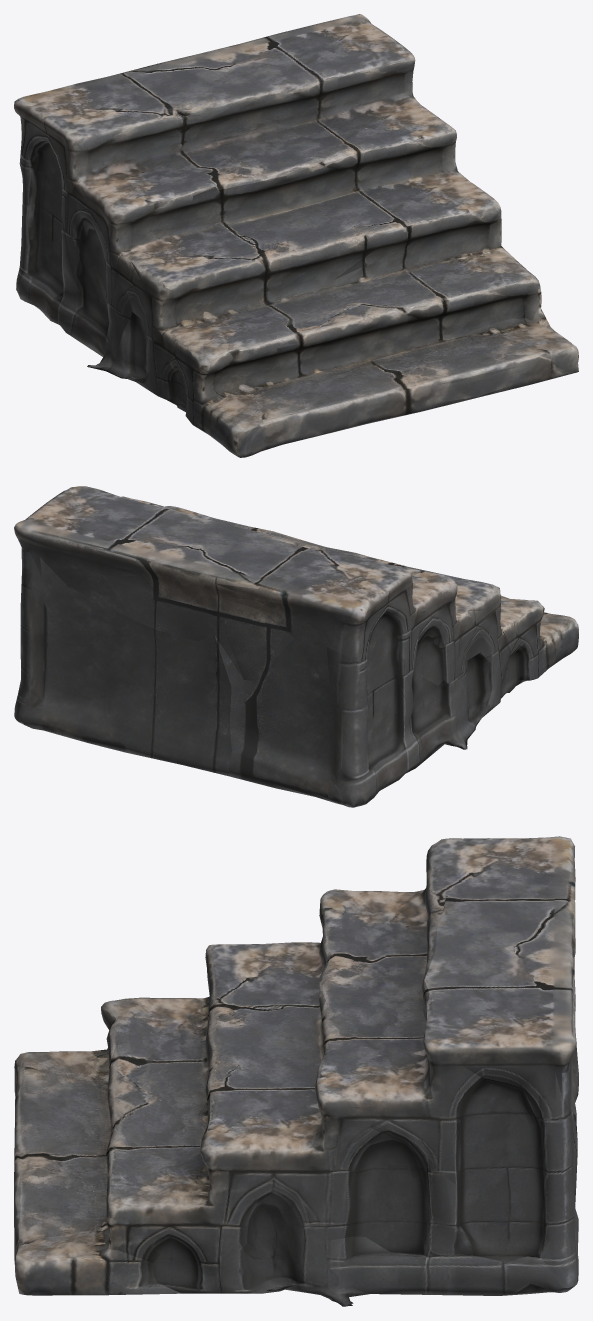
File: stone-steps.glb
3 views of the same model, one above another, from view 1: azimuth 30°, elevation 25°; view 2: azimuth 150°, elevation 25°; view 3: azimuth 270°, elevation 25° (orthographic). The views are drawn at different scales.
Parts seen in each view (by area): view 1: geometry_0; view 2: geometry_0; view 3: geometry_0.
Part boxes in pixels (bbox=[...]): geometry_0: bbox=[14, 14, 578, 457]; geometry_0: bbox=[14, 486, 578, 807]; geometry_0: bbox=[14, 836, 578, 1306].
Bounding box in the file's own units: 1.95 × 0.9875 × 2.
Materials: 1 (1 with a texture image).
